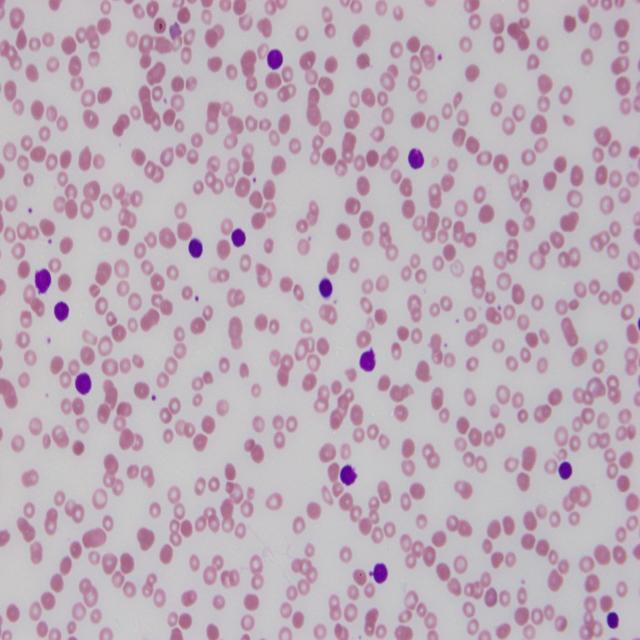cell: (35, 268, 51, 293), (360, 348, 376, 372), (340, 465, 358, 485), (75, 373, 91, 395), (408, 148, 424, 170), (372, 563, 388, 583), (268, 48, 282, 70), (54, 302, 69, 322), (231, 228, 246, 247), (189, 238, 202, 258), (319, 278, 332, 298), (559, 462, 572, 480), (606, 612, 619, 628)
